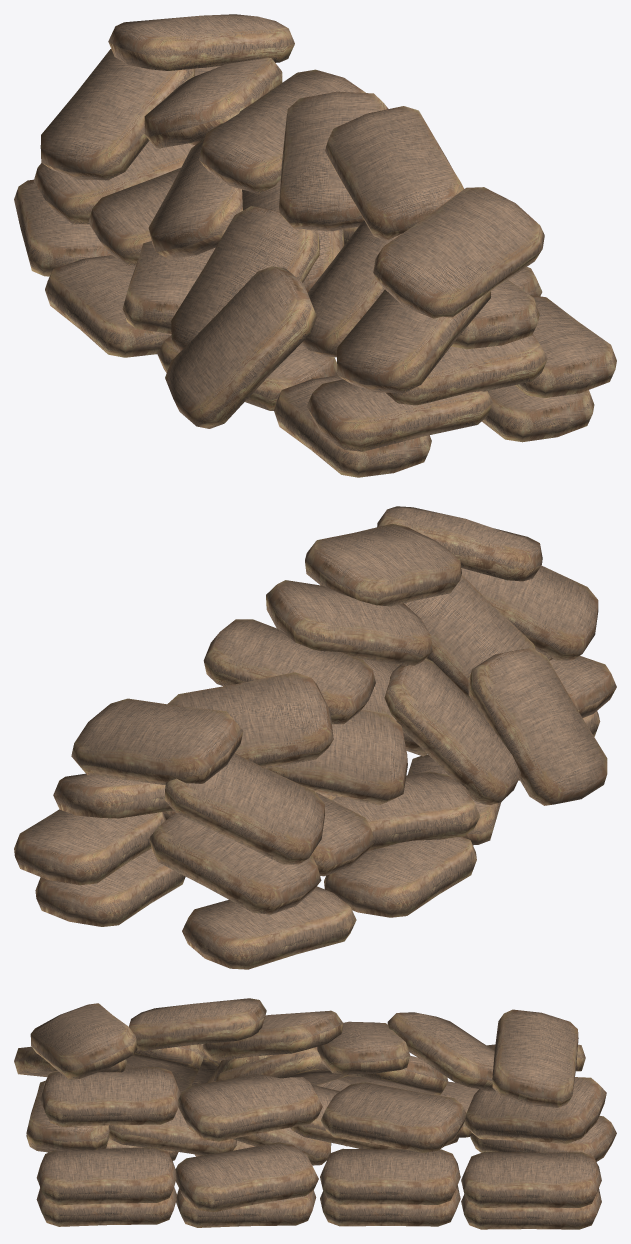
Rendered from Sandbags_Line.fbx.
The picture shows the model from 3 angles, top to bottom: view 1: azimuth 30°, elevation 25°; view 2: azimuth 150°, elevation 25°; view 3: azimuth 270°, elevation 25°; orthographic projection. The views are drawn at different scales.
Parts seen in each view (by area): view 1: Sandbags_Line; view 2: Sandbags_Line; view 3: Sandbags_Line.
Boxes of the visible parts, x1,y1,x2,y2 form: Sandbags_Line: (14, 14, 616, 477); Sandbags_Line: (14, 506, 616, 969); Sandbags_Line: (14, 998, 616, 1229).
Size of the model in its own units: 252 by 157 by 452.
